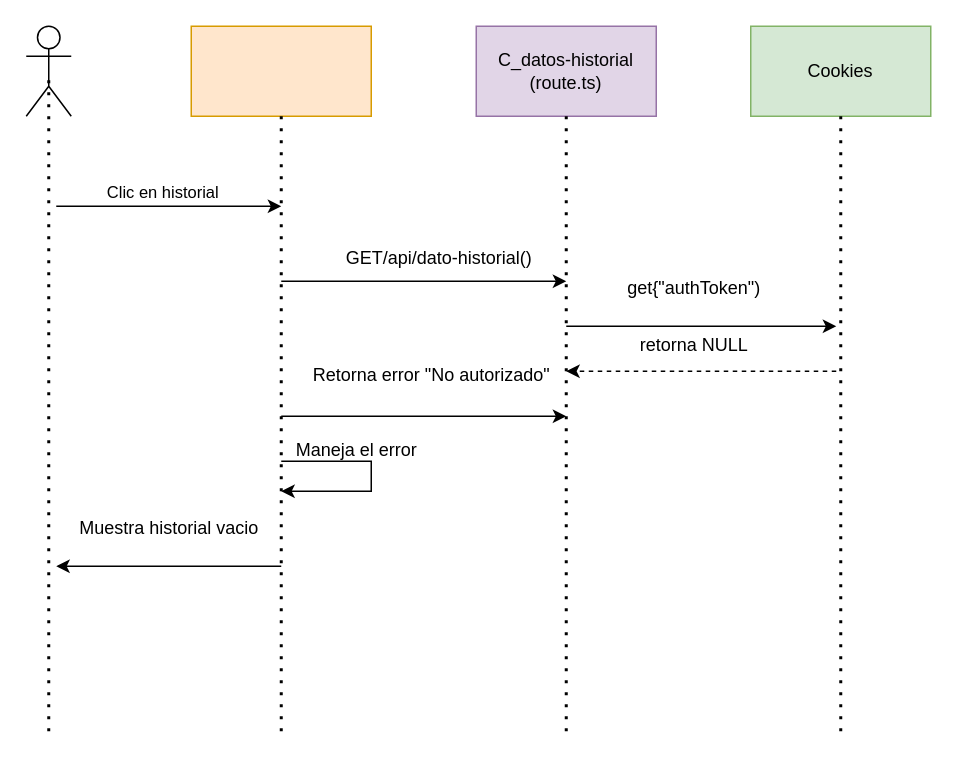
Some shapes in this 957 by 761 pixel diagram are drawn without their labels. Each missing label, with the centre of its shape:
"Actor" goes at [48,70].
"V_historial" goes at [280,70].
